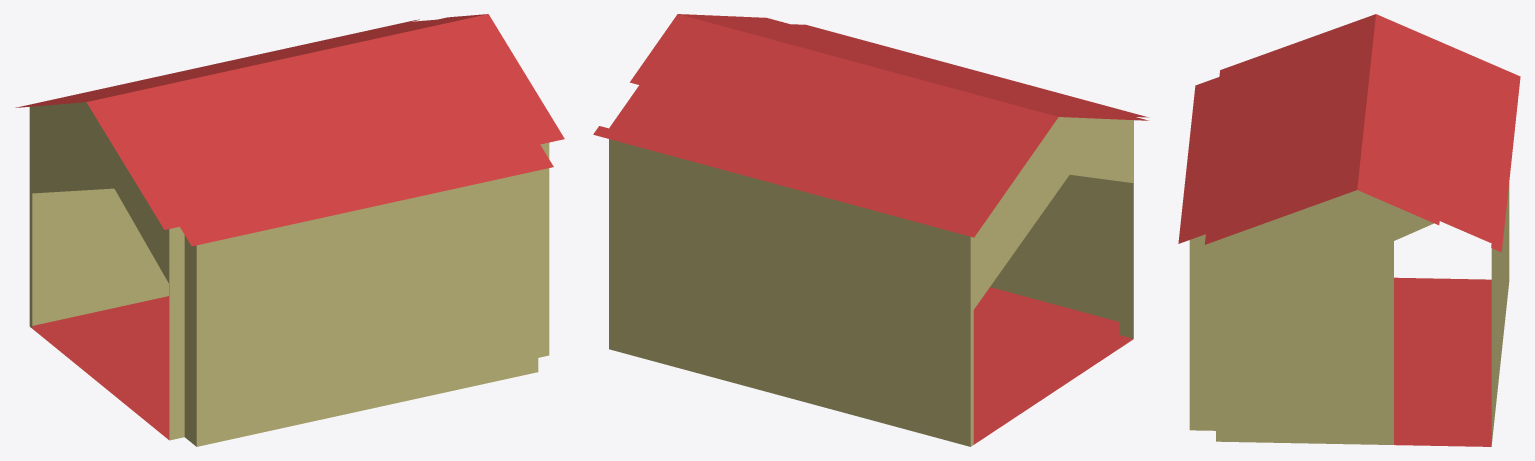
The picture shows the model from 3 angles, left to right: view 1: azimuth 30°, elevation 25°; view 2: azimuth 150°, elevation 25°; view 3: azimuth 270°, elevation 25°; orthographic projection. The views are drawn at different scales.
Bounding box in the file's own units: 20.21 × 16.07 × 13.42.
